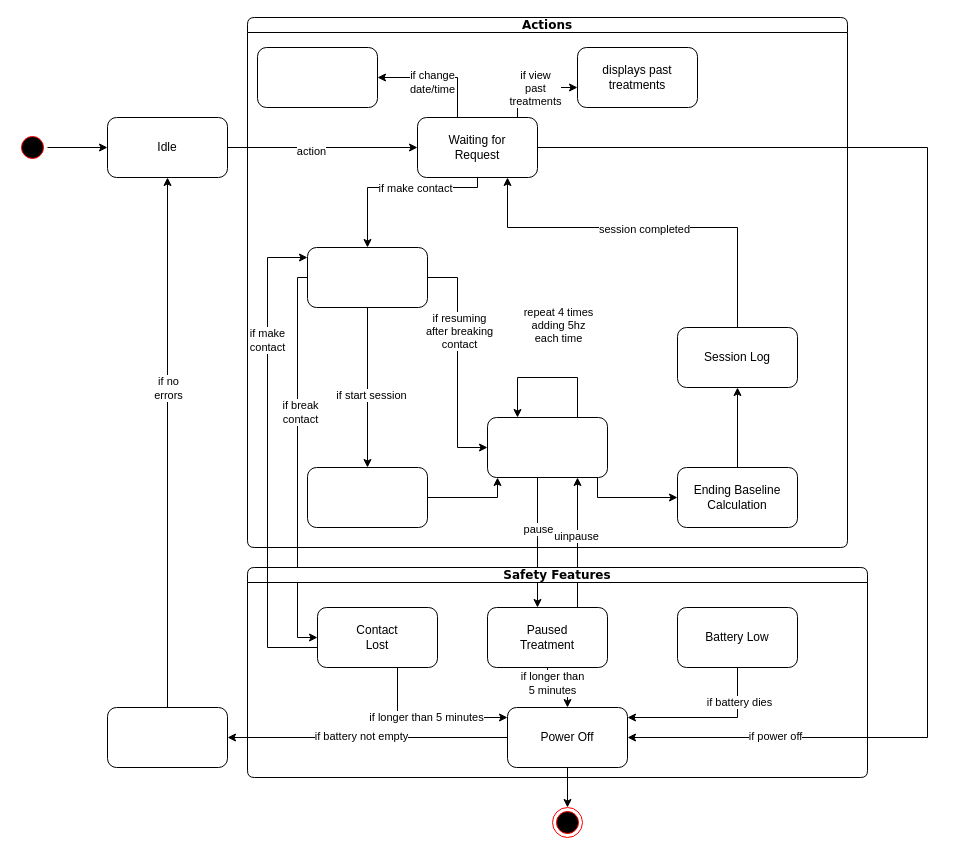
Some shapes in this 953 by 855 pixel diagram are drawn without their labels. Here are the shapes that lost their labels. From the top down, the centre of each, then its label:
the point at 317,77: Date/Time Change Changed/Reflected on Neureset
the point at 367,277: Make Contact With Electrodes
the point at 547,447: Perform Neurofeedback
the point at 367,497: Starting Baseline Calculation
the point at 167,737: Power On
